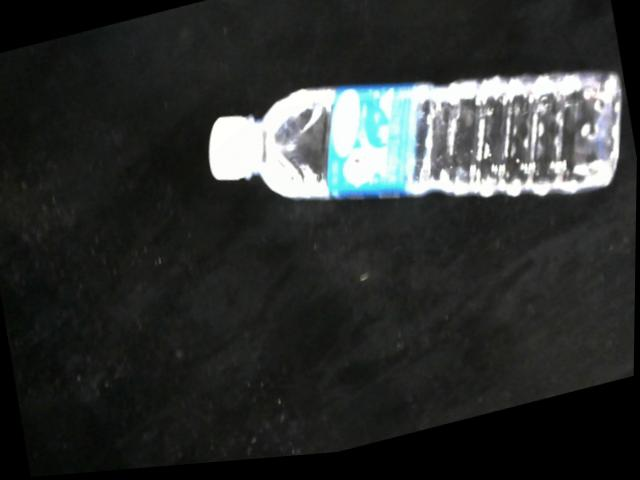bottle: (206, 79, 624, 208)
